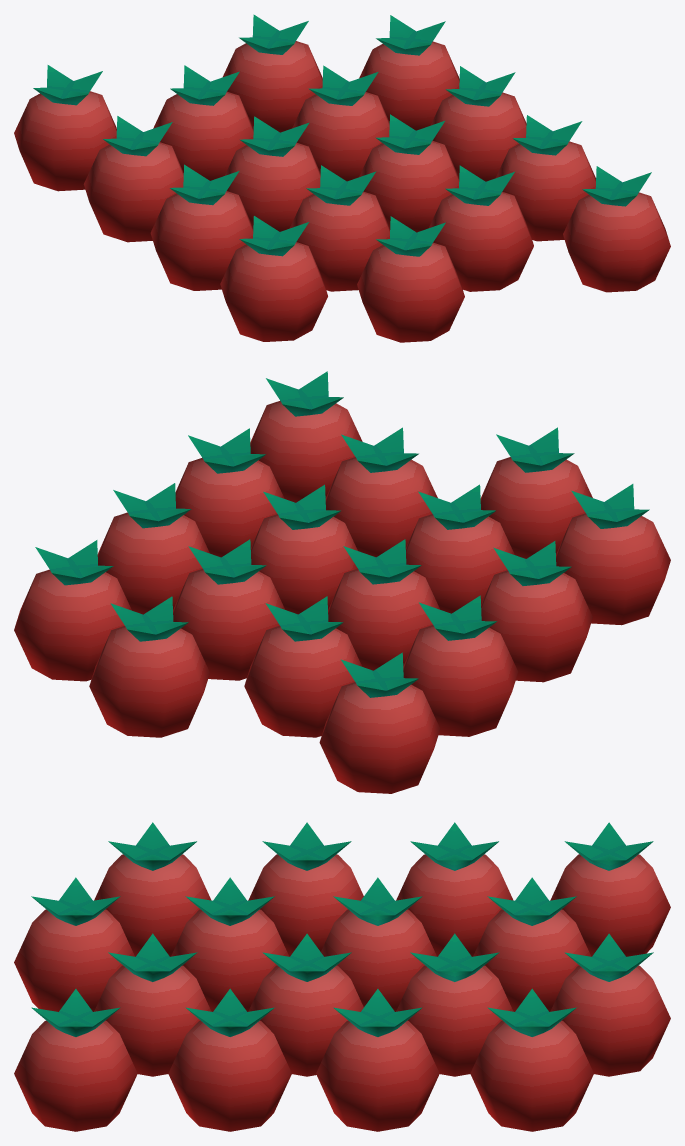
Rendered from tomato2.fbx.
The picture shows the model from 3 angles, top to bottom: view 1: azimuth 30°, elevation 25°; view 2: azimuth 150°, elevation 25°; view 3: azimuth 270°, elevation 25°; orthographic projection. The views are drawn at different scales.
Visible parts, largest first — view 1: tomato2; view 2: tomato2; view 3: tomato2.
Boxes of the visible parts, bbox=[...] form: tomato2: bbox=[14, 14, 670, 342]; tomato2: bbox=[14, 371, 670, 793]; tomato2: bbox=[14, 822, 670, 1131].
Size of the model in its own units: 420 by 101 by 533.
